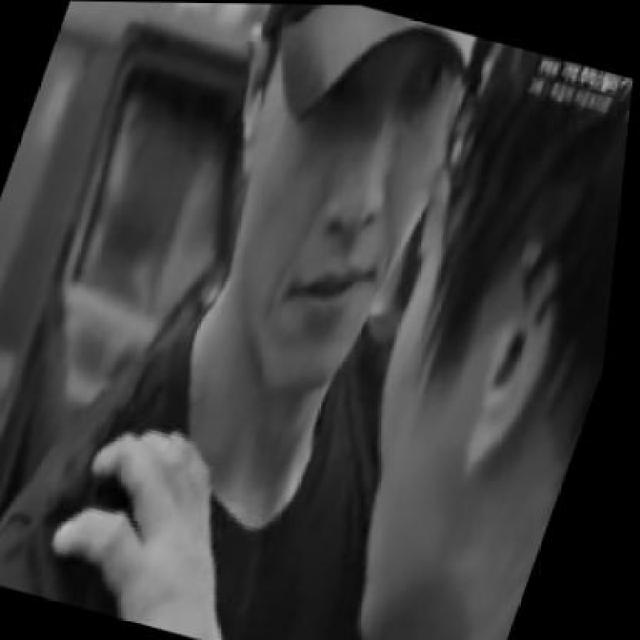hat: (231, 2, 483, 155)
